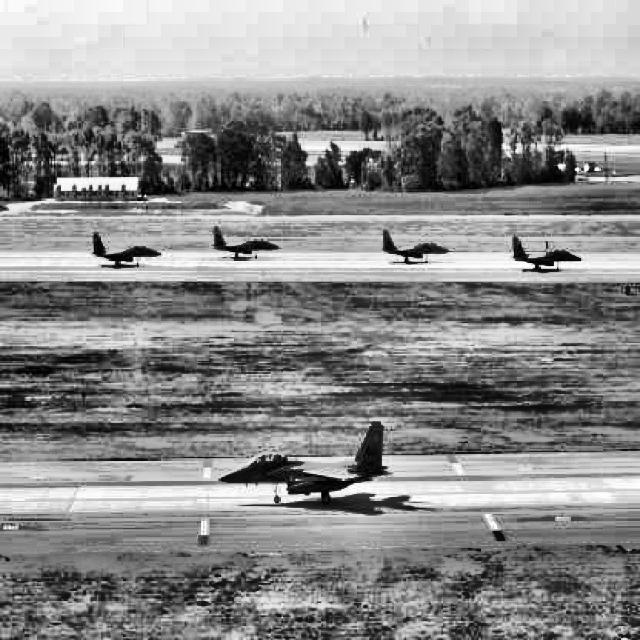F15: (218, 422, 396, 504), (509, 236, 582, 270), (89, 232, 162, 266), (209, 226, 280, 259), (378, 230, 451, 262)
